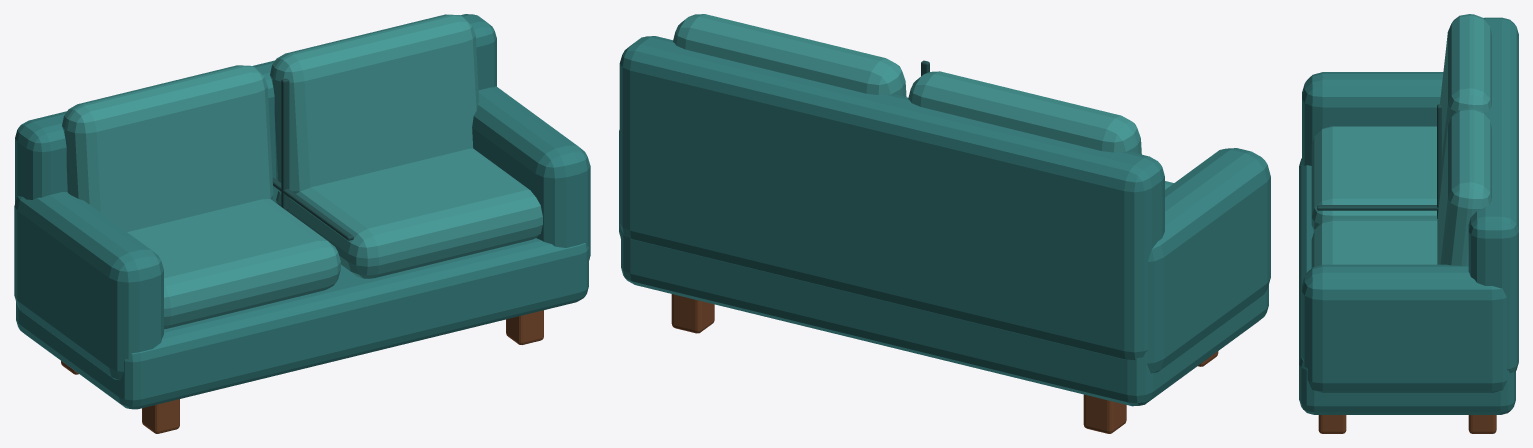
The model's file is sofa.glb.
The picture shows the model from 3 angles, left to right: view 1: azimuth 30°, elevation 25°; view 2: azimuth 150°, elevation 25°; view 3: azimuth 270°, elevation 25°; orthographic projection. The views are drawn at different scales.
Visible parts, largest first — view 1: SofaBase, BackCushion2, BackCushion1, SeatCushion2, LeftArm, SeatCushion1, RightArm, SofaBackFrame, BackCentreSeam, SofaLeg1, SofaLeg2, SeatCentreSeam; view 2: SofaBackFrame, SofaBase, LeftArm, BackCushion1, BackCushion2, SofaLeg4, SofaLeg3; view 3: RightArm, SeatCushion1, SofaBackFrame, LeftArm, SofaBase, BackCushion2, SeatCushion2, BackCushion1, SeatCentreSeam, SofaLeg2, SofaLeg4, BackCentreSeam.
Boxes of the visible parts, <box> form: SofaBase: <box>16,238,588,409</box>; BackCushion2: <box>270,14,479,194</box>; BackCushion1: <box>62,65,273,231</box>; SeatCushion2: <box>276,148,542,278</box>; LeftArm: <box>14,192,163,380</box>; SeatCushion1: <box>127,199,340,329</box>; RightArm: <box>472,86,590,260</box>; SofaBackFrame: <box>15,14,496,203</box>; BackCentreSeam: <box>281,78,289,210</box>; SofaLeg1: <box>142,399,179,433</box>; SofaLeg2: <box>506,310,543,344</box>; SeatCentreSeam: <box>272,177,353,240</box>; SofaBackFrame: <box>619,36,1164,360</box>; SofaBase: <box>621,228,1268,406</box>; LeftArm: <box>1147,148,1270,373</box>; BackCushion1: <box>908,71,1141,154</box>; BackCushion2: <box>673,14,906,96</box>; SofaLeg4: <box>671,294,714,333</box>; SofaLeg3: <box>1083,394,1126,433</box>; RightArm: <box>1302,264,1507,392</box>; SeatCushion1: <box>1311,126,1436,231</box>; SofaBackFrame: <box>1468,17,1518,373</box>; LeftArm: <box>1302,72,1443,165</box>; SofaBase: <box>1299,158,1515,414</box>; BackCushion2: <box>1437,108,1491,265</box>; SeatCushion2: <box>1311,219,1437,267</box>; BackCushion1: <box>1440,14,1491,176</box>; SeatCentreSeam: <box>1317,205,1438,210</box>; SofaLeg2: <box>1318,415,1346,433</box>; SofaLeg4: <box>1468,415,1496,433</box>; BackCentreSeam: <box>1437,104,1441,218</box>.
Bounding box in the file's own units: 1.84 × 0.9845 × 0.79.
